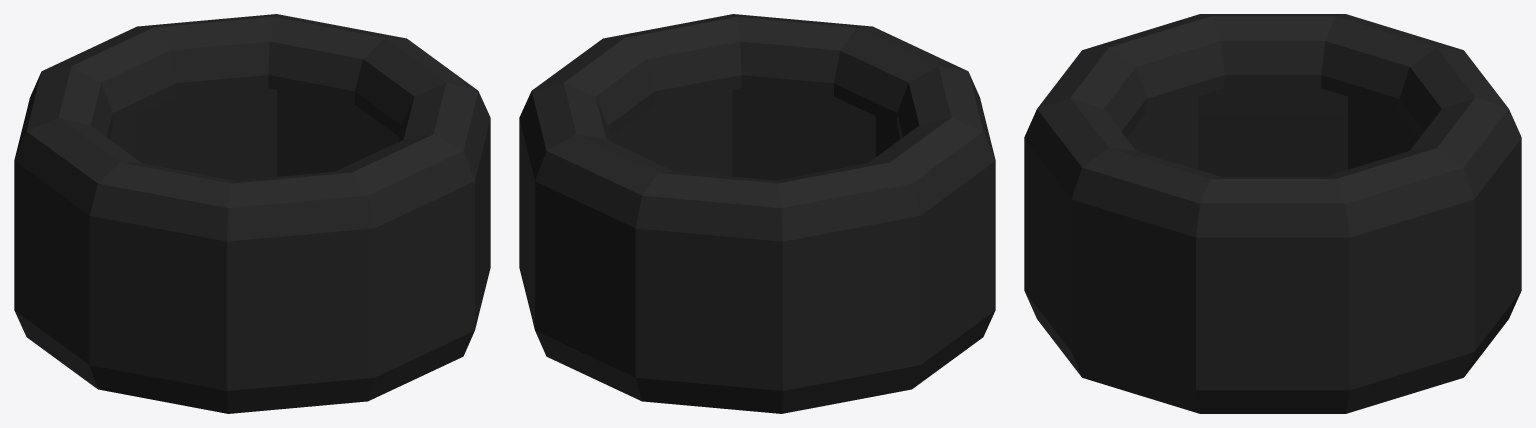
The model's file is Tire 1.fbx.
The picture shows the model from 3 angles, left to right: view 1: azimuth 30°, elevation 25°; view 2: azimuth 150°, elevation 25°; view 3: azimuth 270°, elevation 25°; orthographic projection. The views are drawn at different scales.
Visible parts, largest first — view 1: Car_sport.003; view 2: Car_sport.003; view 3: Car_sport.003.
Boxes of the visible parts, <box> form: Car_sport.003: <box>14,14,490,413</box>; Car_sport.003: <box>519,14,995,413</box>; Car_sport.003: <box>1024,14,1521,413</box>.
Bounding box in the file's own units: 76.52 × 41.48 × 80.46.
